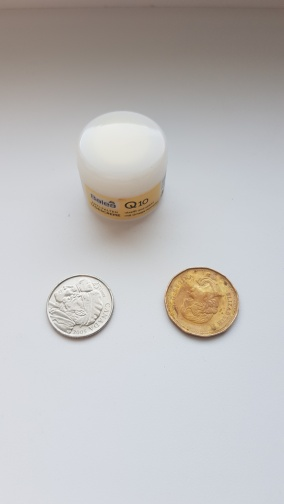coin: (163, 267, 240, 340), (45, 274, 115, 340)
